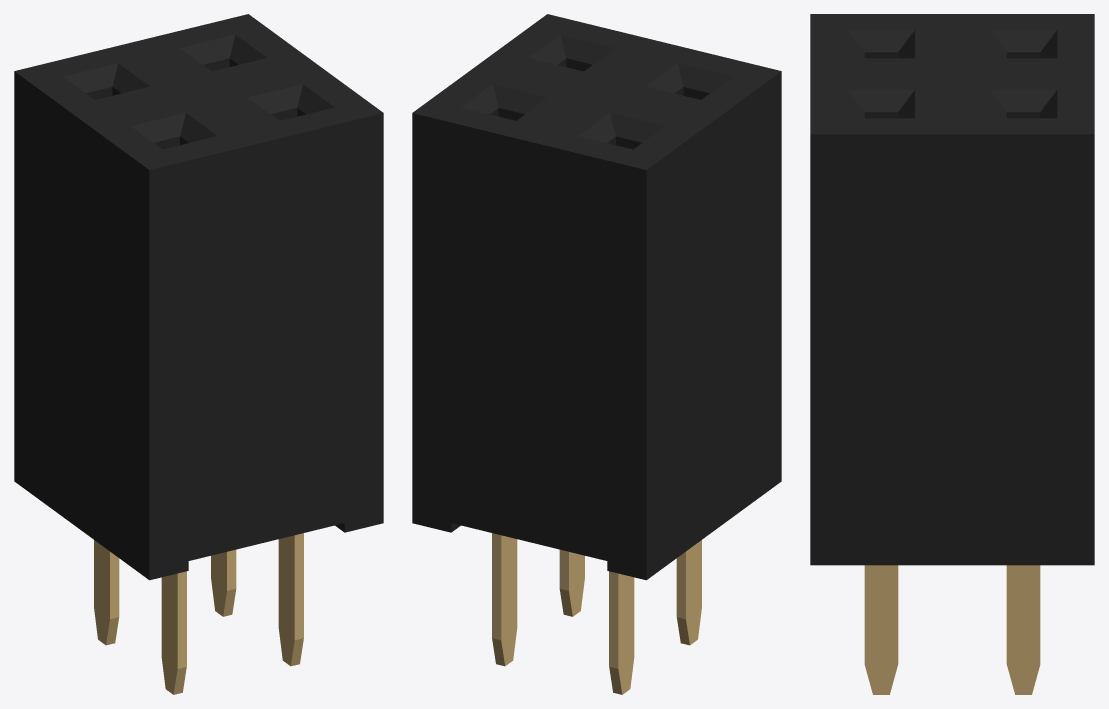
Rendered from PinSocket_2x02_P2.54mm_Vertical.glb.
3 views of the same model, side by side, from view 1: azimuth 30°, elevation 25°; view 2: azimuth 150°, elevation 25°; view 3: azimuth 270°, elevation 25° (orthographic). The views are drawn at different scales.
Visible parts, largest first — view 1: =>[0:1:1:3]; view 2: =>[0:1:1:3]; view 3: =>[0:1:1:3].
Part boxes in pixels (x1,y1,x2,y2): =>[0:1:1:3]: (14,14,383,694); =>[0:1:1:3]: (412,14,781,694); =>[0:1:1:3]: (810,14,1094,694).
Size of the model in its own units: 0.00508 by 0.0116 by 0.00508.
